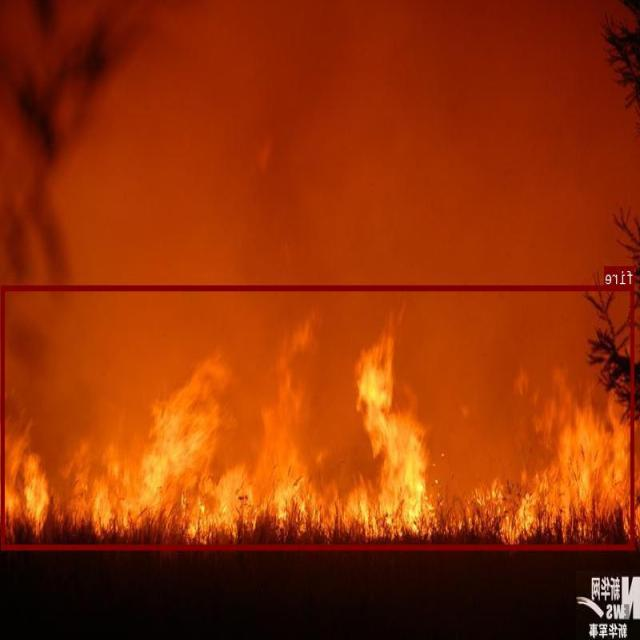fire: (2, 284, 634, 548)
